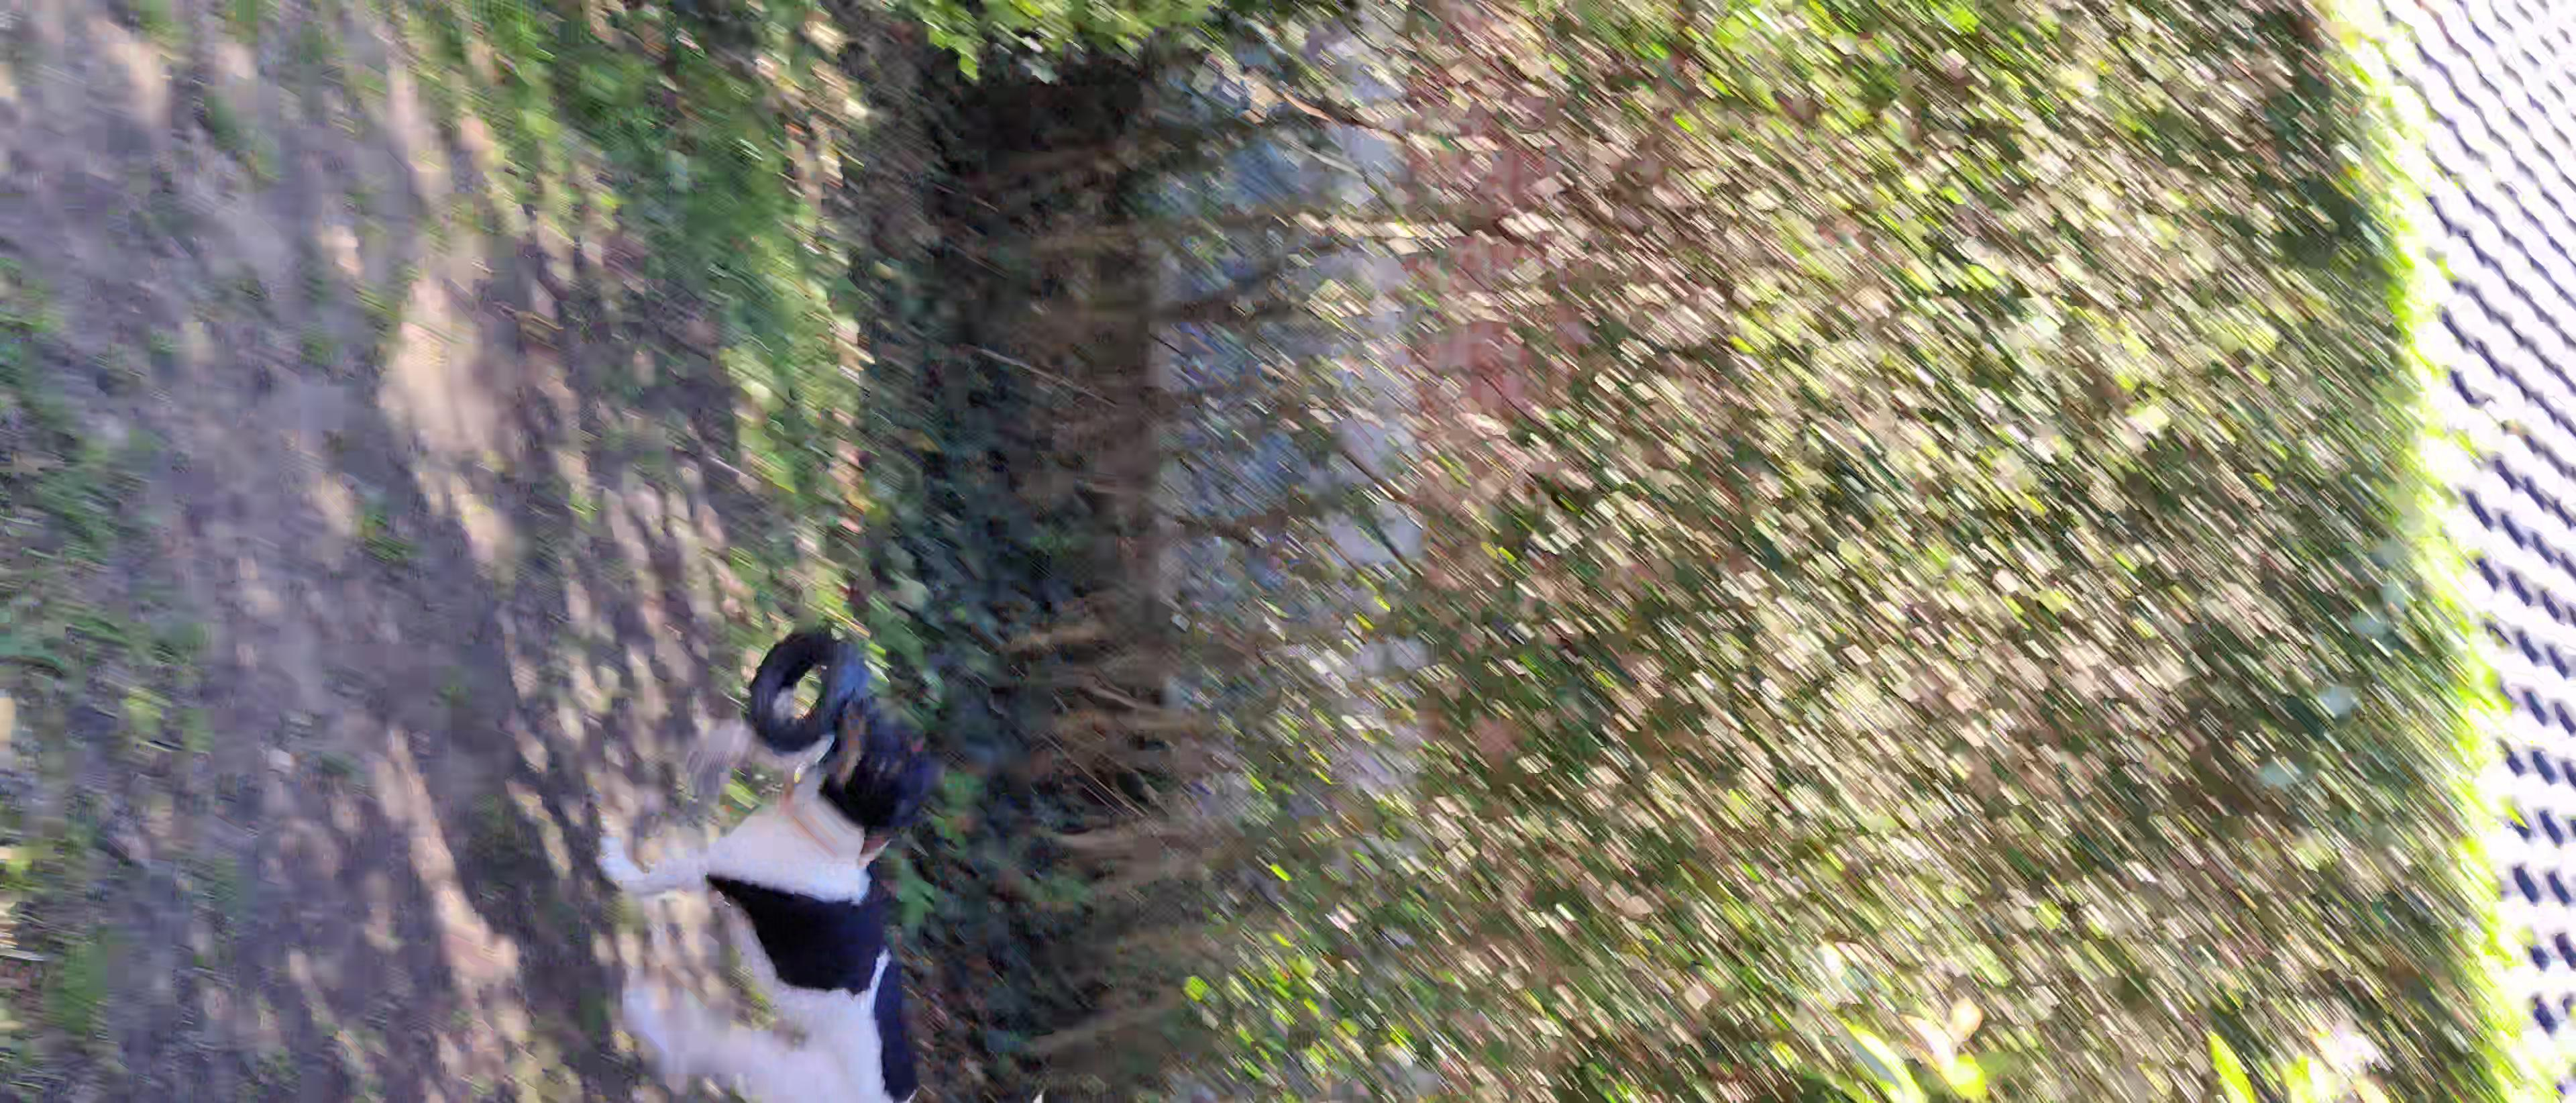Dog: (586, 685, 950, 1103)
